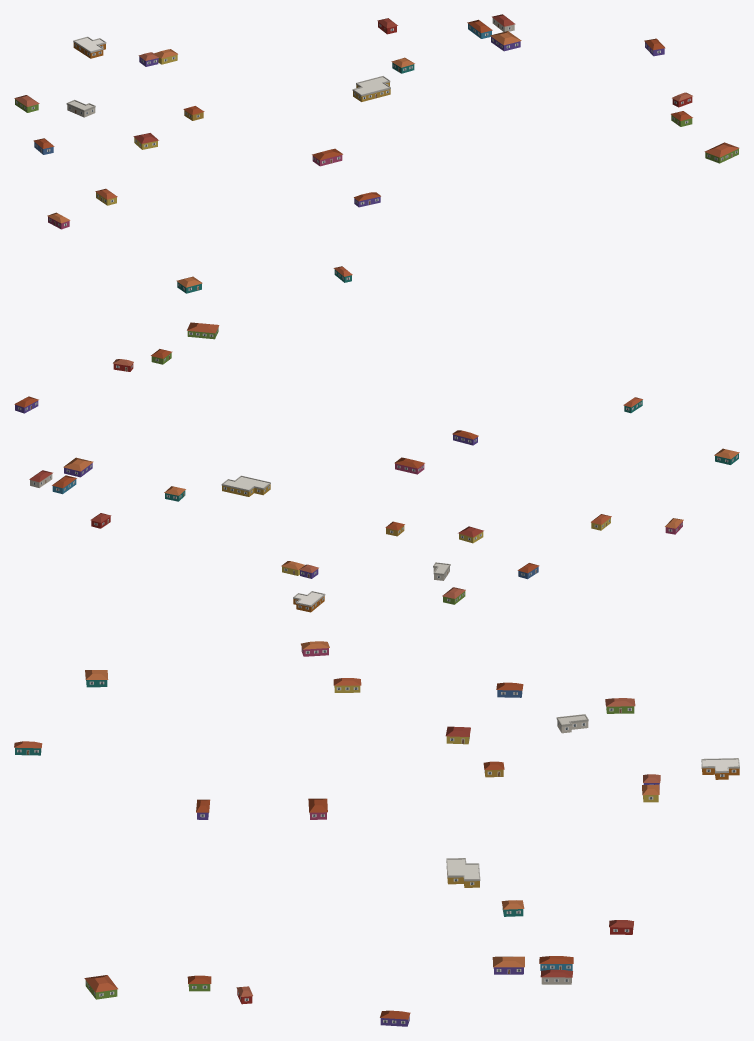
Rendered from msb_oranjestad_m14_m2.glb.
The picture shows the model from 3 angles, top to bottom: view 1: azimuth 30°, elevation 25°; view 2: azimuth 150°, elevation 25°; view 3: azimuth 270°, elevation 25°; orthographic projection. The views are drawn at different scales.
Visible parts, largest first — view 1: msb_oranjestad_m14_m2_lod0; view 2: msb_oranjestad_m14_m2_lod0; view 3: msb_oranjestad_m14_m2_lod0.
Boxes of the visible parts, x1,y1,x2,y2 form: msb_oranjestad_m14_m2_lod0: (14, 14, 739, 293); msb_oranjestad_m14_m2_lod0: (14, 322, 739, 612); msb_oranjestad_m14_m2_lod0: (14, 641, 739, 1026).
Size of what is drawn, in the model's own units: 365 by 11.72 by 301.
Materials: 3 (1 with a texture image).
